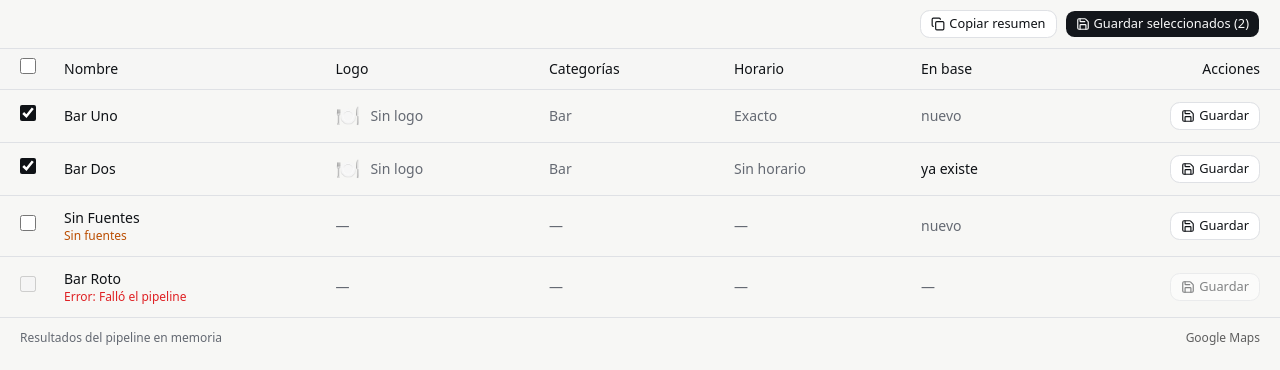
ProcessedPlacesPanel › guarda una sola fila y marca error si falla la request
Expected: the text "ya existe" is shown, [921,158,978,178]
Click the button with aria-label "Guardar Bar Uno": point(1215, 116) [1170,102,1260,130]
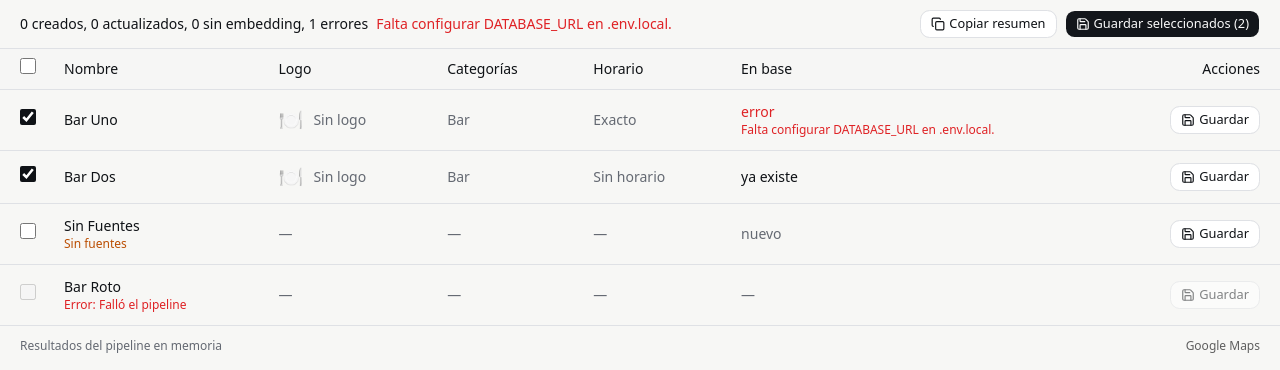
Expected: the text "ya existe" is shown, [741,166,798,186]
Expected: the text "error" is shown, [741,102,774,120]
Expected: the text "0 creados, 0 actualizados, 0 sin embedding, 1 errores" is shown, [20,14,368,33]
